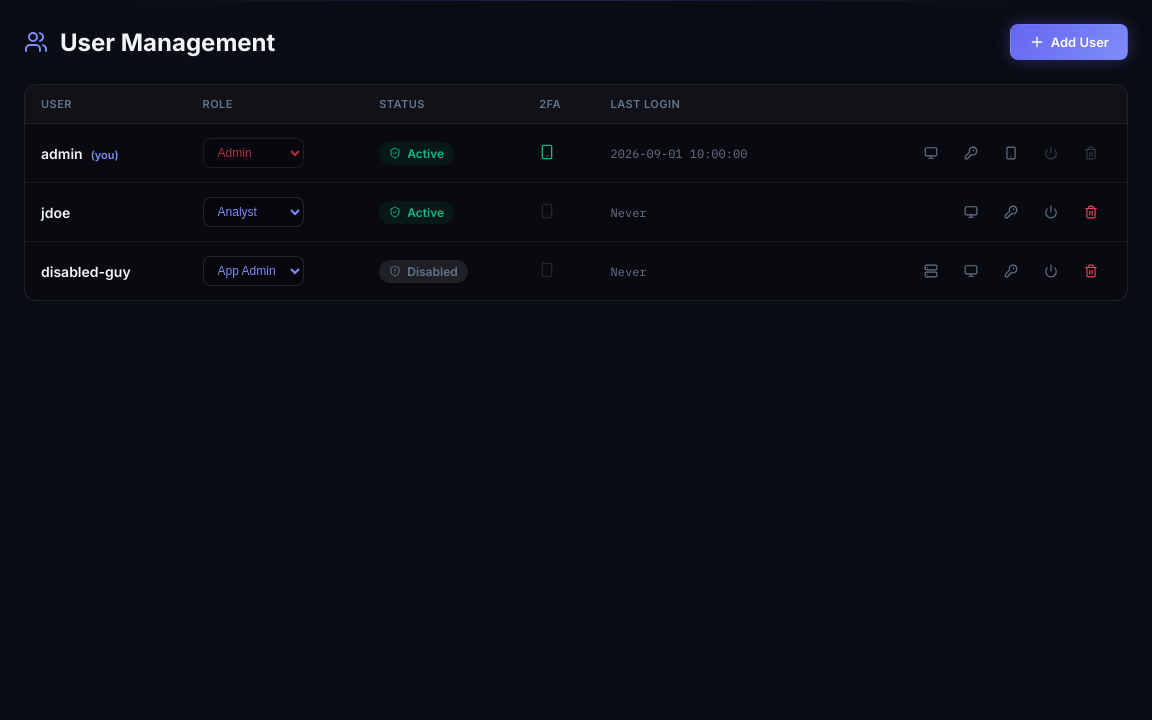
Test case: UserManagement — create user › shows the app checklist only when role is switched to app_admin
Click the button "Add User".
click(1069, 42)  # box [1010, 24, 1128, 60]
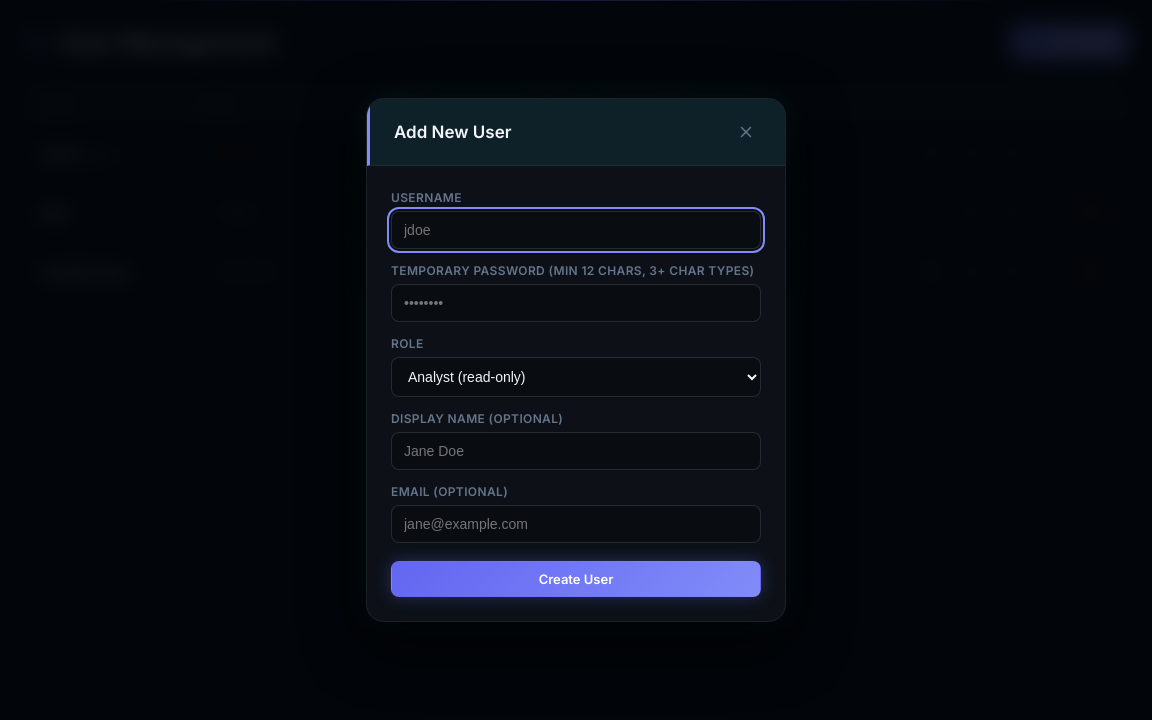
expect the text "Protected Applications" is not shown: met
Select "App Admin (scoped to specific apps)" in the dropdown labelled "Role" at (576, 377), box [391, 357, 761, 397]
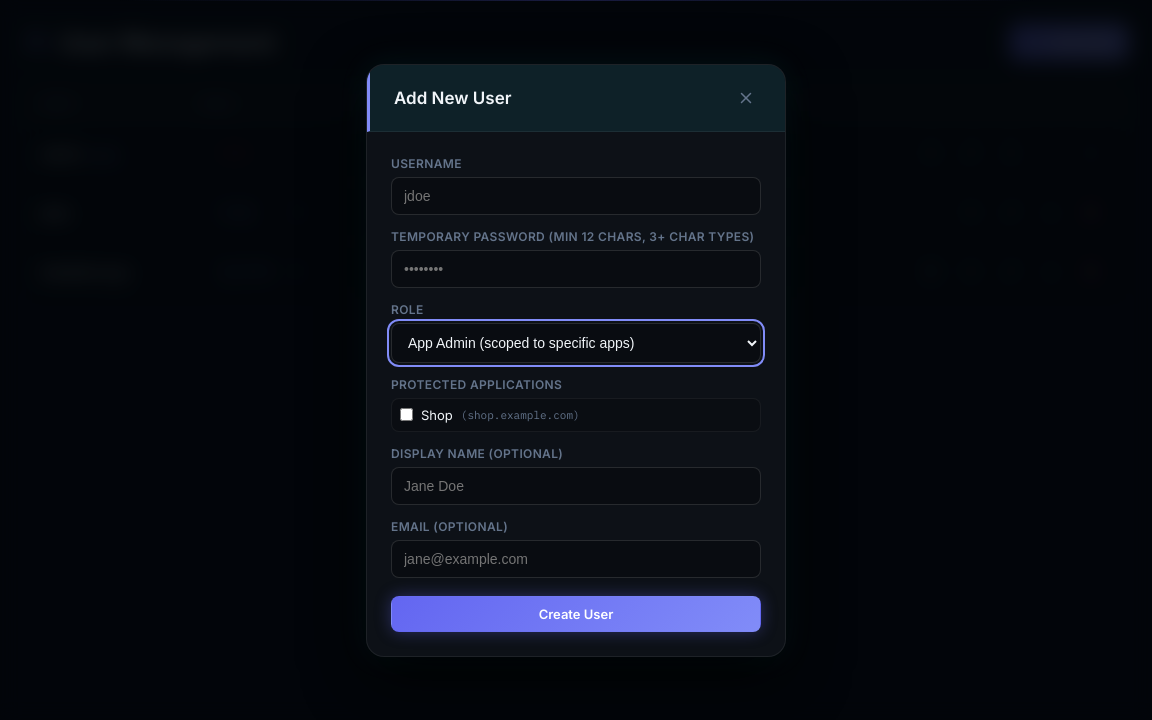
expect the text "Protected Applications" is shown: met, box [391, 376, 562, 392]
expect the text "Shop (shop.example.com)" is shown: met, box [400, 406, 580, 422]
